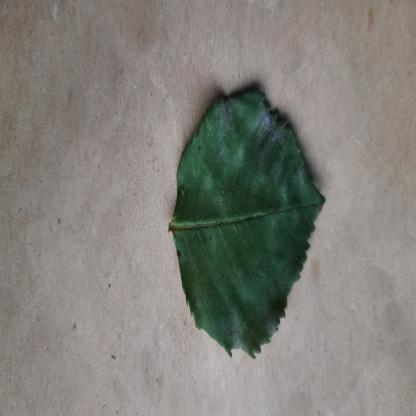powdery-mildew: (171, 89, 325, 362)
